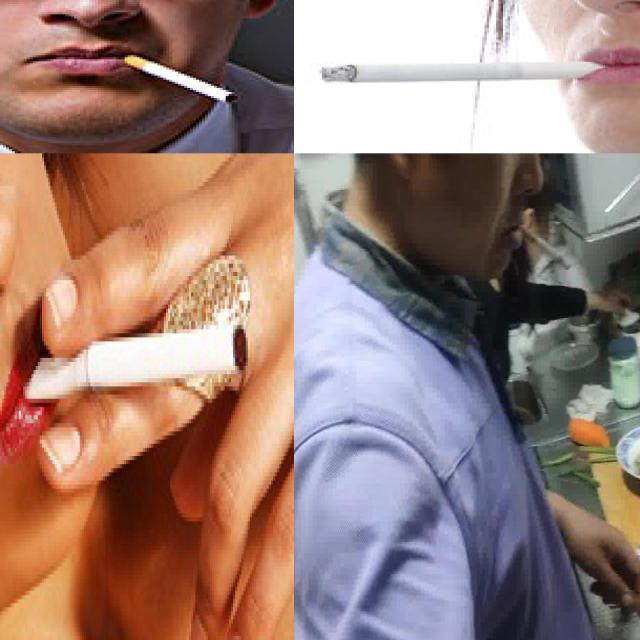smoking: (20, 328, 248, 403), (121, 52, 240, 104), (320, 61, 608, 82), (516, 220, 570, 270)
